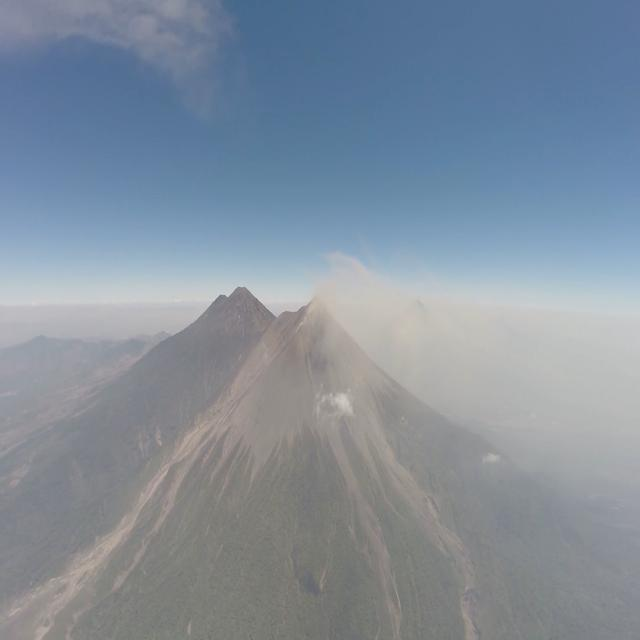Plume: (312, 240, 446, 394)
Summit: (304, 294, 332, 312)
